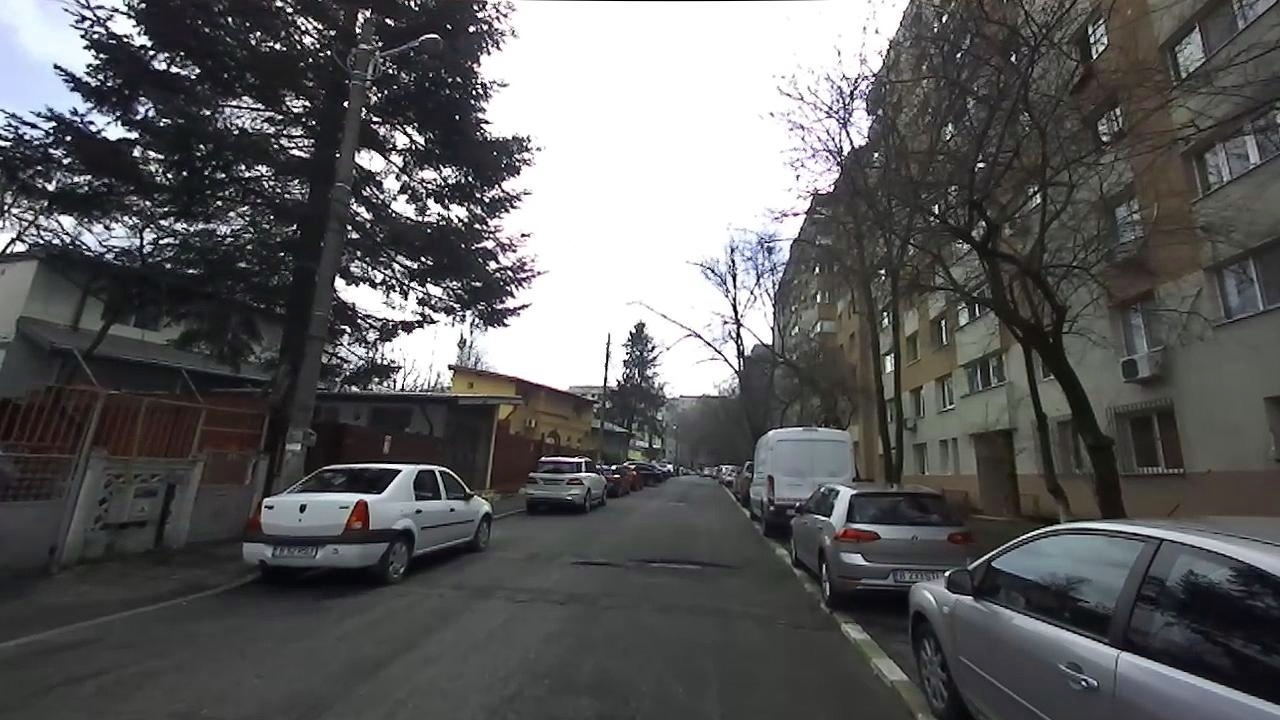pothole: (636, 555, 739, 574), (570, 558, 621, 569)
